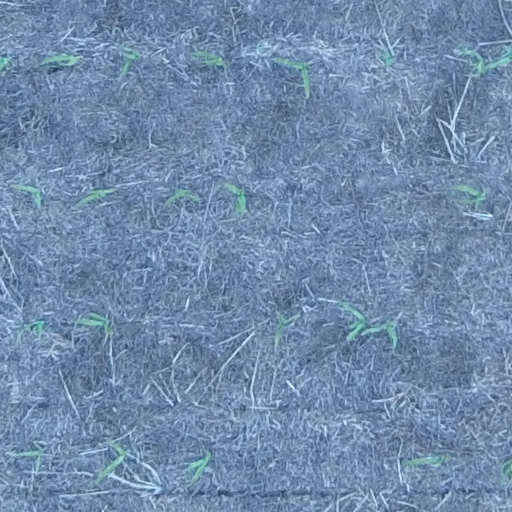planta: (92, 439, 126, 483), (275, 57, 311, 96), (358, 318, 398, 348), (340, 301, 366, 340), (447, 183, 486, 206), (185, 450, 212, 483), (74, 310, 111, 333), (275, 312, 298, 346), (226, 182, 247, 215), (460, 48, 486, 74), (13, 182, 41, 204), (76, 188, 110, 206), (403, 454, 447, 467), (119, 50, 140, 76), (16, 449, 43, 469), (191, 50, 224, 66), (166, 188, 197, 204), (42, 54, 79, 66), (26, 319, 44, 336)
